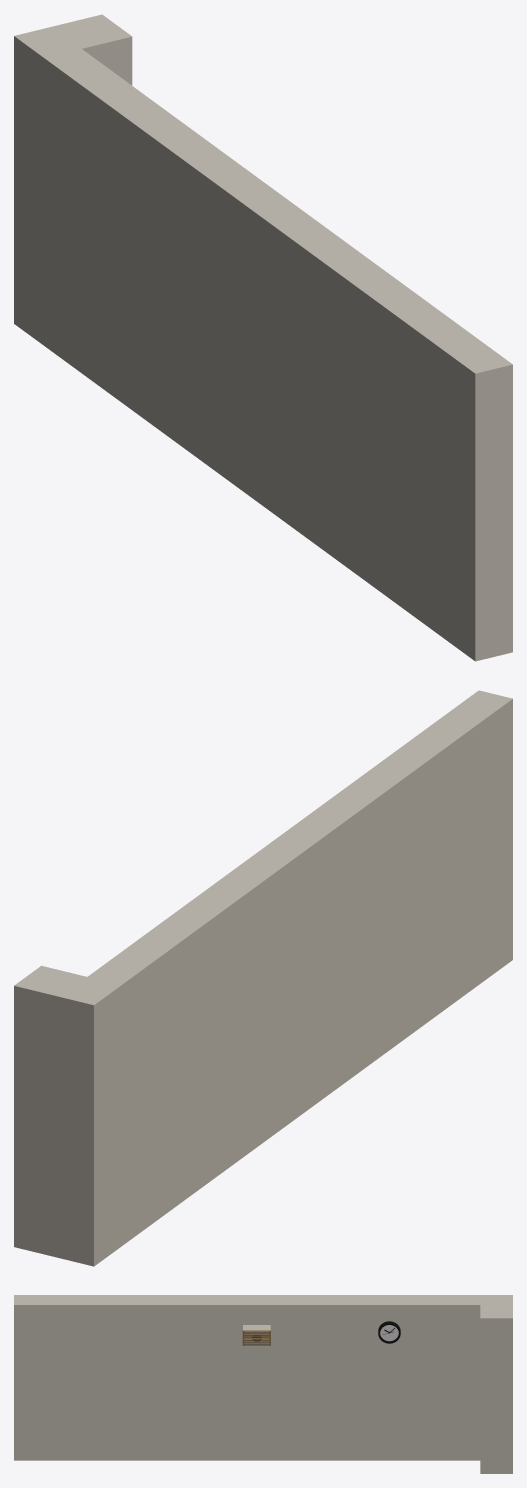
The model's file is FrontWall.obj.
3 views of the same model, one above another, from view 1: azimuth 30°, elevation 25°; view 2: azimuth 150°, elevation 25°; view 3: azimuth 270°, elevation 25° (orthographic). The views are drawn at different scales.
Visible parts, largest first — view 1: FrontWall_FrontWall_initialShadingGroup.001; view 2: FrontWall_FrontWall_initialShadingGroup.001; view 3: FrontWall_FrontWall_initialShadingGroup.001, FrontWall_FrontWall_lambert6SG, FrontWall_FrontWall_lambert7SG, FrontWall_FrontWall_lambert8SG.
Part boxes in pixels (x1,y1,x2,y2): FrontWall_FrontWall_initialShadingGroup.001: [14, 14, 512, 661]; FrontWall_FrontWall_initialShadingGroup.001: [14, 690, 512, 1266]; FrontWall_FrontWall_initialShadingGroup.001: [14, 1295, 512, 1473]; FrontWall_FrontWall_lambert6SG: [242, 1330, 270, 1345]; FrontWall_FrontWall_lambert7SG: [252, 1321, 400, 1343]; FrontWall_FrontWall_lambert8SG: [380, 1325, 398, 1341].
Bounding box in the file's own units: 2.35 × 7.31 × 21.25.
